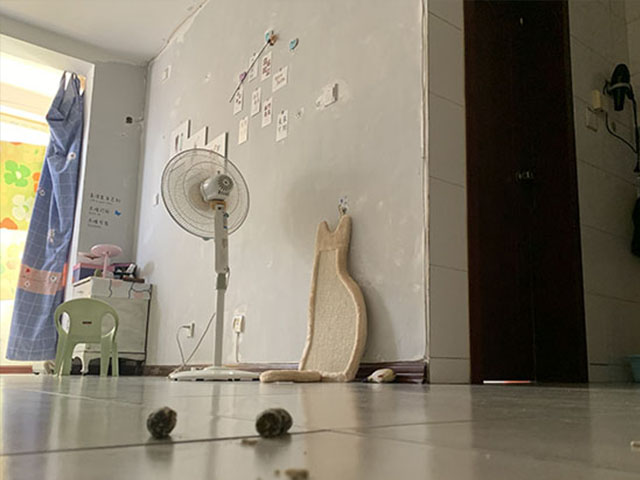curtain: (4, 68, 87, 363)
feces: (254, 405, 295, 439), (144, 404, 180, 440)
stool: (50, 296, 121, 379)
wire: (173, 319, 208, 368)
